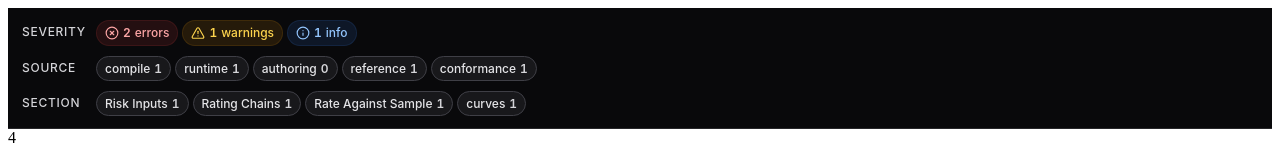
<ErrorFilter> › clicking multiple chips within an axis ORs them
The image size is (1280, 163).
Click the button "compile 1" at (134, 69), box x1=96 y1=56 x2=171 y2=81
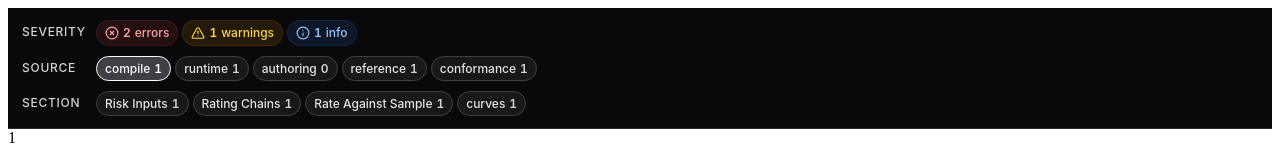
Click the button "runtime 1" at (212, 69), box x1=175 y1=56 x2=249 y2=81
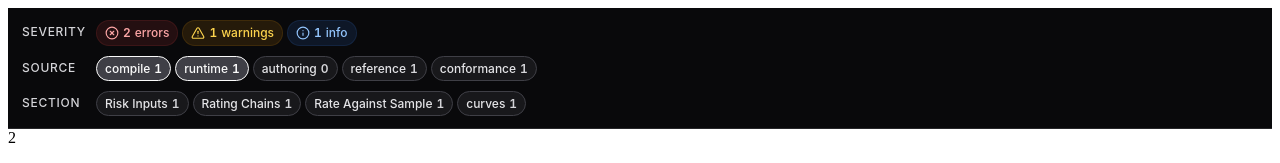
Result: the text with test id "visible-count" reads "2" at x1=8 y1=129 x2=16 y2=146
